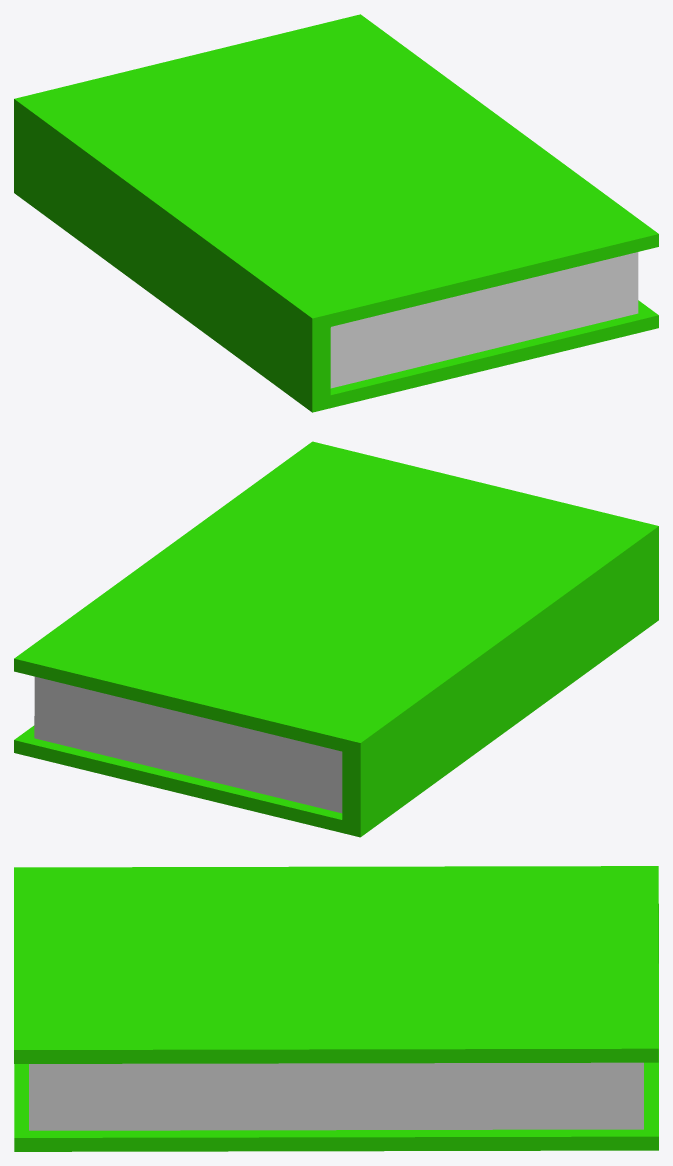
The model's file is Book.fbx.
3 renders of one model, top to bottom at view 1: azimuth 30°, elevation 25°; view 2: azimuth 150°, elevation 25°; view 3: azimuth 270°, elevation 25°, orthographic. The views are drawn at different scales.
Visible parts, largest first — view 1: book.002; view 2: book.002; view 3: book.002.
Boxes of the visible parts, x1,y1,x2,y2 form: book.002: [14, 14, 658, 412]; book.002: [14, 441, 658, 837]; book.002: [14, 866, 658, 1151].
Size of the model in its own units: 141 by 37.03 by 210.
